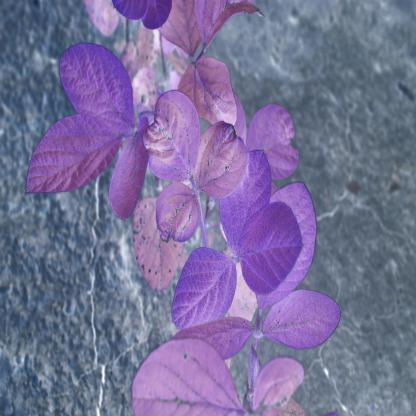Soyabean leaf: (24, 111, 124, 195), (58, 42, 139, 134), (239, 200, 304, 298), (217, 148, 272, 255), (170, 249, 235, 332), (262, 288, 340, 350), (107, 124, 153, 224), (170, 314, 254, 361)
